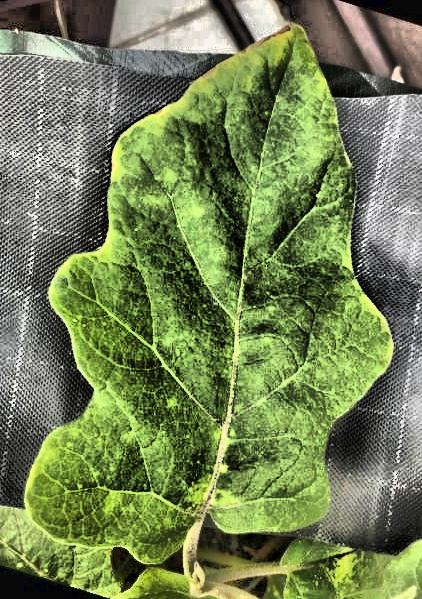Non-critical Stress: (0, 1, 422, 599)
